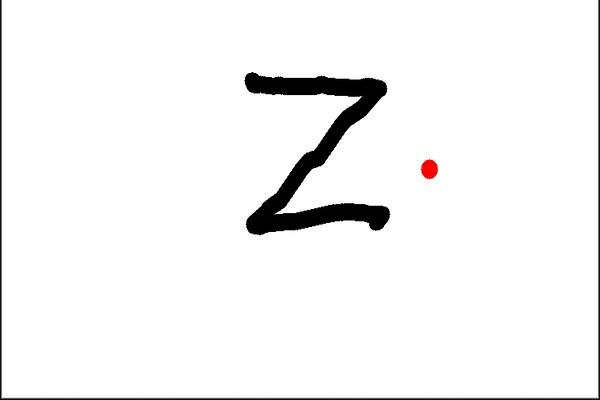Z: (234, 64, 401, 239)
